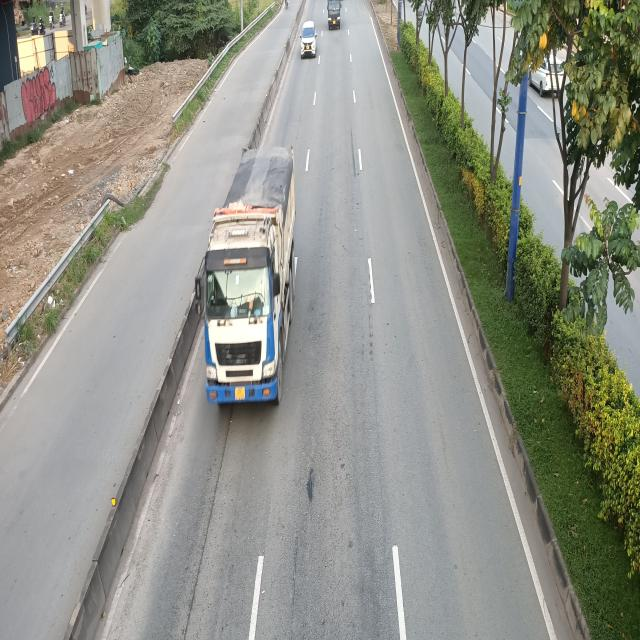car: (301, 20, 318, 56)
container: (198, 145, 302, 413)
truck: (326, 0, 342, 28)
